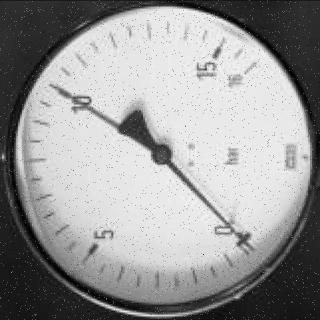gauge: (0, 0, 320, 316), (224, 53, 268, 90), (225, 220, 257, 252), (150, 144, 173, 166), (241, 238, 259, 255), (53, 79, 65, 96)
